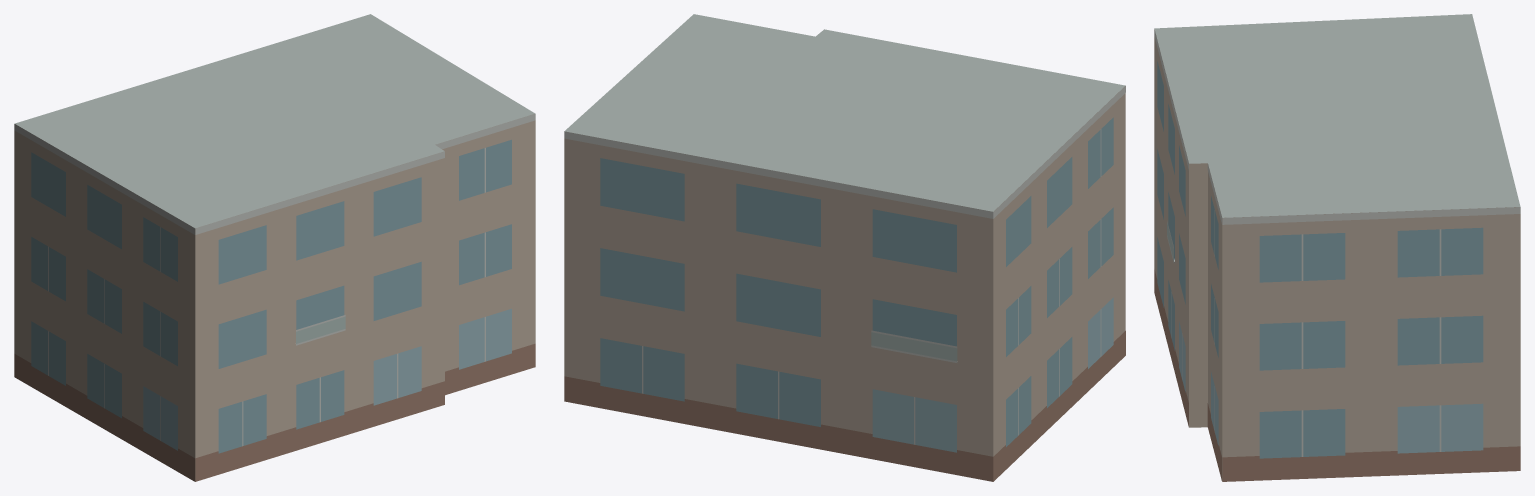
Rendered from survey-upis-33002086.glb.
3 views of the same model, side by side, from view 1: azimuth 30°, elevation 25°; view 2: azimuth 150°, elevation 25°; view 3: azimuth 270°, elevation 25° (orthographic). The views are drawn at different scales.
Parts seen in each view (by area): view 1: survey-upis-33002086.tmp; view 2: survey-upis-33002086.tmp; view 3: survey-upis-33002086.tmp.
Part boxes in pixels (<box>): survey-upis-33002086.tmp: <box>14,14,535,481</box>; survey-upis-33002086.tmp: <box>564,14,1125,481</box>; survey-upis-33002086.tmp: <box>1154,14,1520,481</box>.
Bounding box in the file's own units: 15.16 × 9.15 × 11.51.
